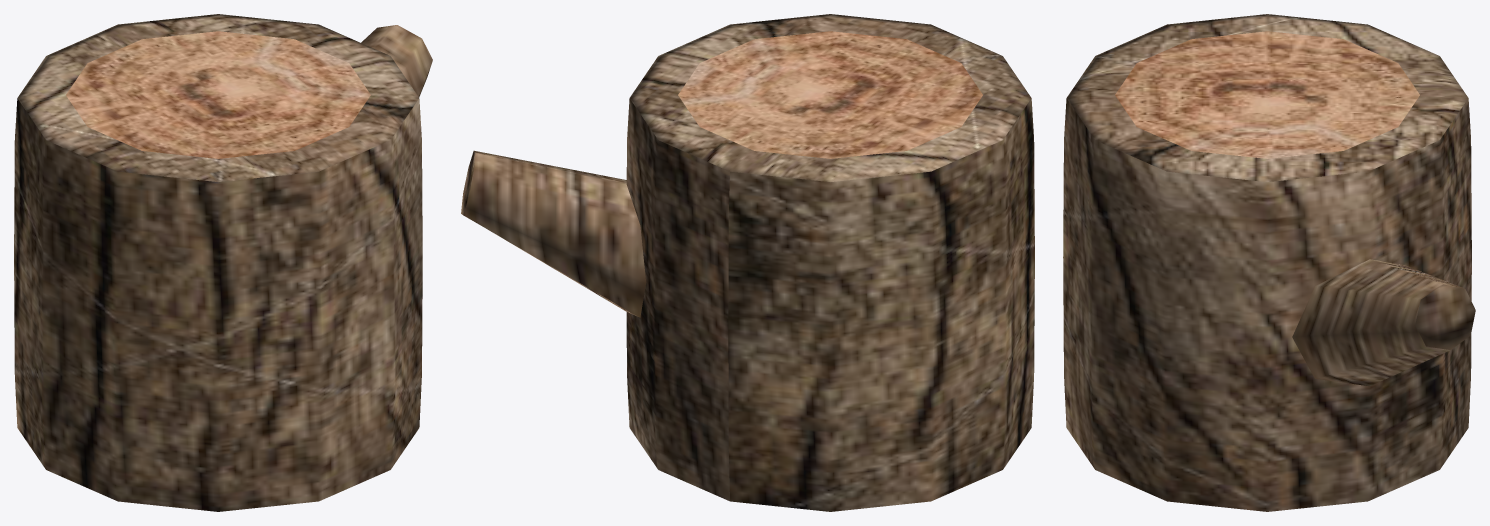
File: Log_Collectible.fbx
3 views of the same model, side by side, from view 1: azimuth 30°, elevation 25°; view 2: azimuth 150°, elevation 25°; view 3: azimuth 270°, elevation 25° (orthographic).
Parts seen in each view (by area): view 1: Log_Collectible; view 2: Log_Collectible; view 3: Log_Collectible.
Boxes of the visible parts, x1,y1,x2,y2 form: Log_Collectible: [14, 14, 432, 511]; Log_Collectible: [461, 14, 1034, 511]; Log_Collectible: [1063, 14, 1475, 511].
Size of the model in its own units: 44.95 by 31.04 by 34.65.
Materials: 2 (2 with a texture image).
